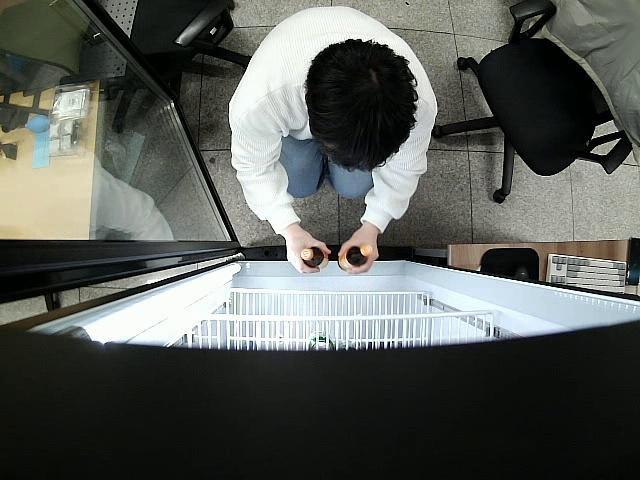17_vita500: (340, 240, 374, 270), (300, 243, 327, 268)
